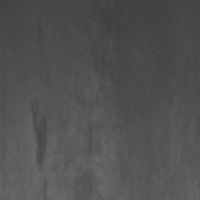inclusion: (21, 94, 55, 177), (76, 104, 101, 169), (31, 18, 49, 50)
